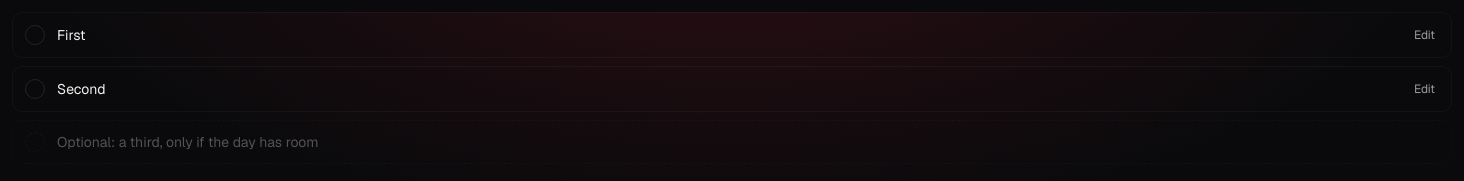
it: KillList: two slots plus a dimmed optional third › clicking the placeholder opens the editor for the third item
Click the button "Optional: a third, only if the day has room": [188, 142] box [12,120,1452,164]
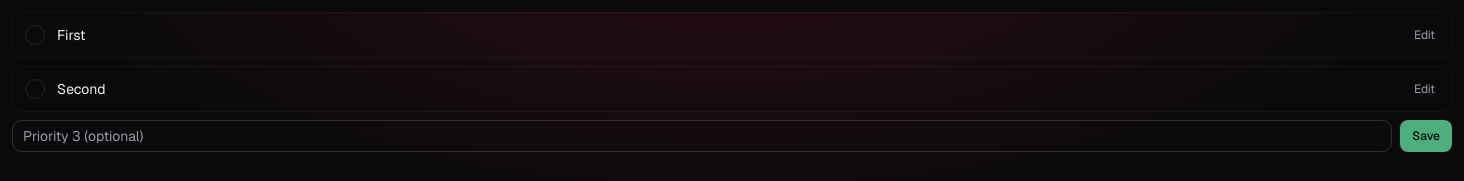
Expected: the field with placeholder "Priority 3 (optional)" is shown, [12,120,1392,152]
